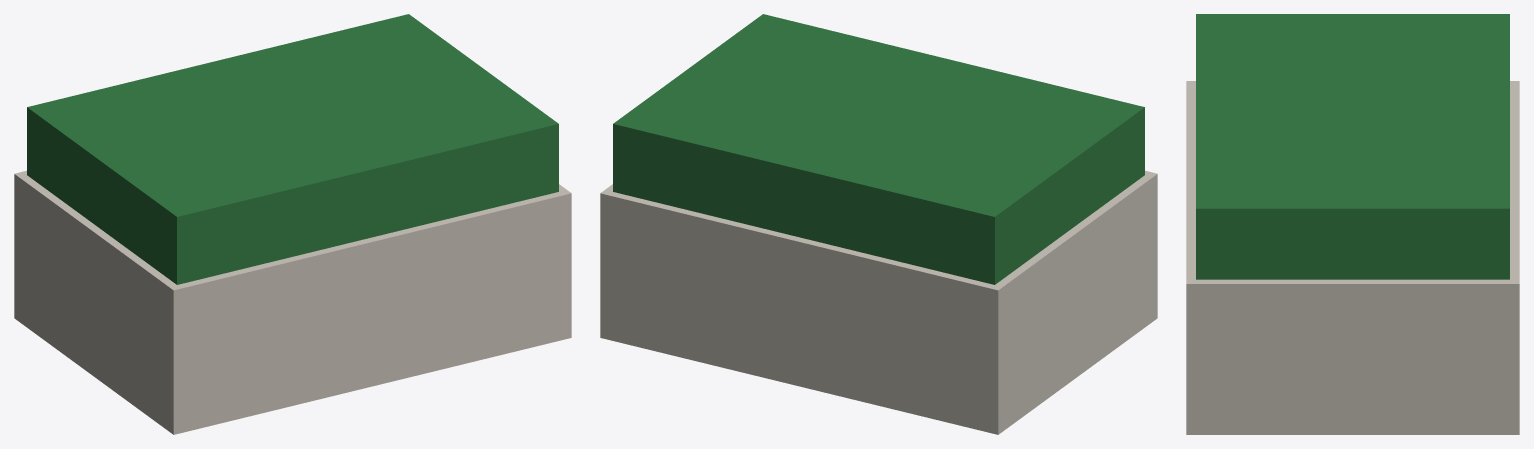
The model's file is sponge.glb.
3 views of the same model, side by side, from view 1: azimuth 30°, elevation 25°; view 2: azimuth 150°, elevation 25°; view 3: azimuth 270°, elevation 25° (orthographic). The views are drawn at different scales.
Visible parts, largest first — view 1: sponge; view 2: sponge; view 3: sponge.
Boxes of the visible parts, x1,y1,x2,y2 form: sponge: (14, 14, 571, 434); sponge: (600, 14, 1157, 434); sponge: (1186, 14, 1519, 434).
Bounding box in the file's own units: 0.098 × 0.05 × 0.068.
